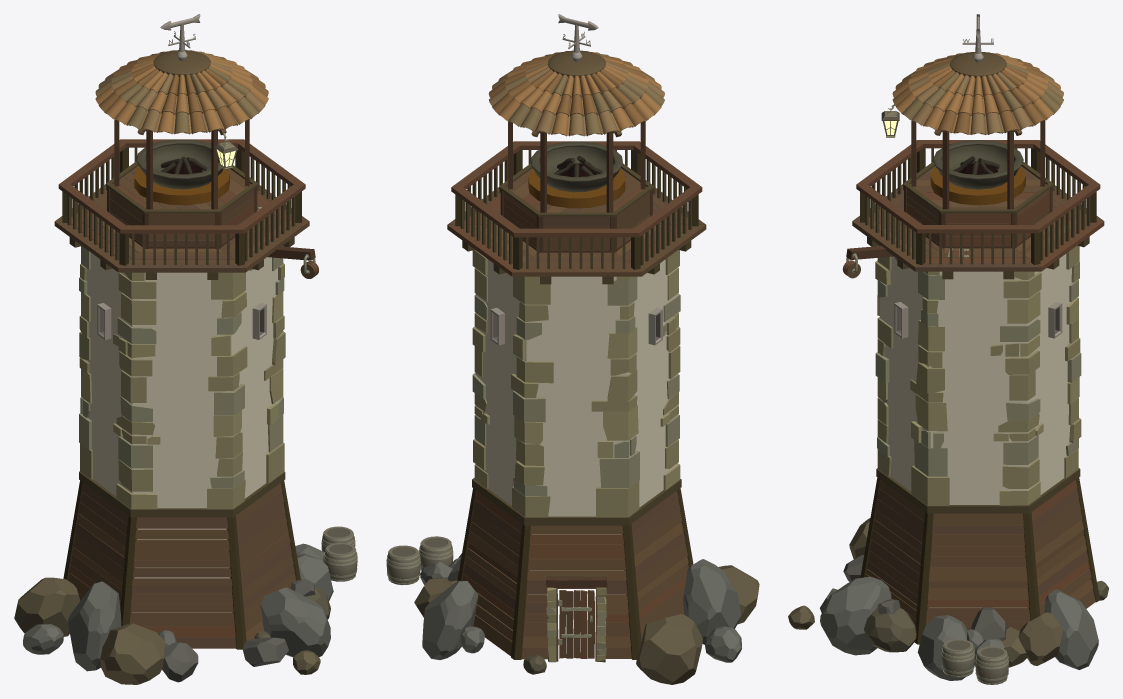
Rendered from LightHouse.fbx.
3 renders of one model, left to right at view 1: azimuth 30°, elevation 25°; view 2: azimuth 150°, elevation 25°; view 3: azimuth 270°, elevation 25°, orthographic. The views are drawn at different scales.
Parts seen in each view (by area): view 1: LightHouse_LOD0; view 2: LightHouse_LOD0; view 3: LightHouse_LOD0.
Boxes of the visible parts, x1,y1,x2,y2 form: LightHouse_LOD0: [14, 14, 357, 684]; LightHouse_LOD0: [386, 14, 759, 684]; LightHouse_LOD0: [788, 14, 1108, 684].
Size of what is drawn, in the model's own units: 358 by 621 by 298.
